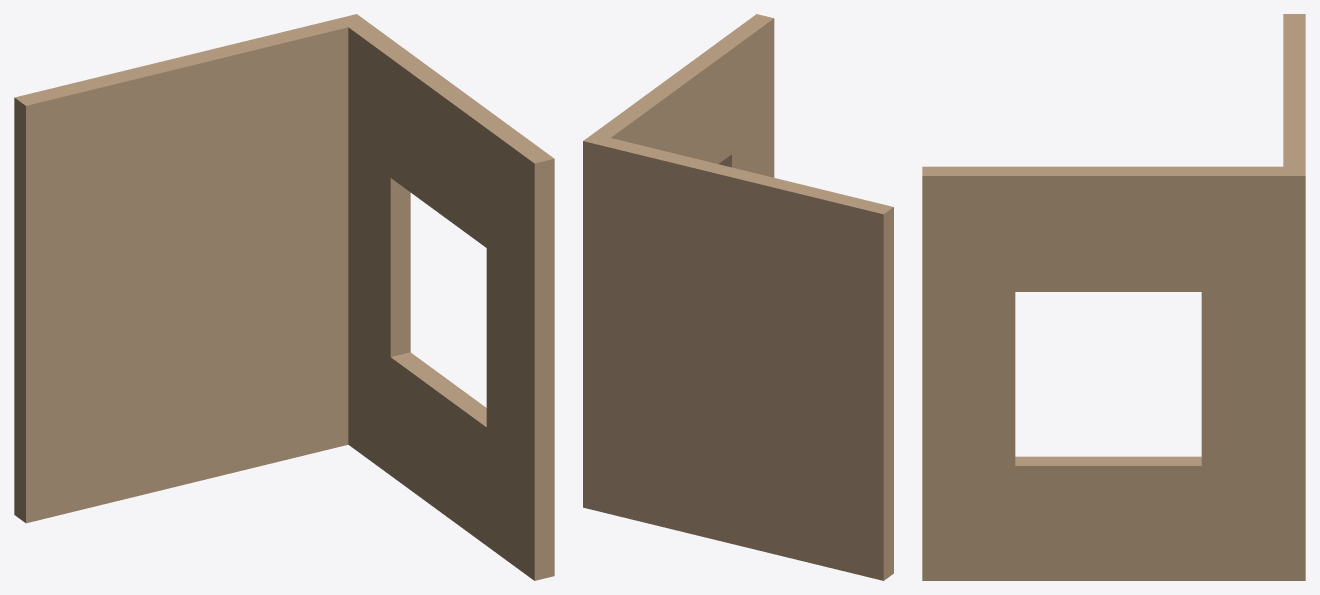
File: Wall2_C1_11.fbx
3 renders of one model, left to right at view 1: azimuth 30°, elevation 25°; view 2: azimuth 150°, elevation 25°; view 3: azimuth 270°, elevation 25°, orthographic. The views are drawn at different scales.
Visible parts, largest first — view 1: Wall2_C1_11; view 2: Wall2_C1_11; view 3: Wall2_C1_11.
Part boxes in pixels (bbox=[...]): Wall2_C1_11: bbox=[14, 14, 554, 580]; Wall2_C1_11: bbox=[583, 14, 893, 580]; Wall2_C1_11: bbox=[922, 14, 1305, 580].
Size of the model in its own units: 258 by 300 by 258.
